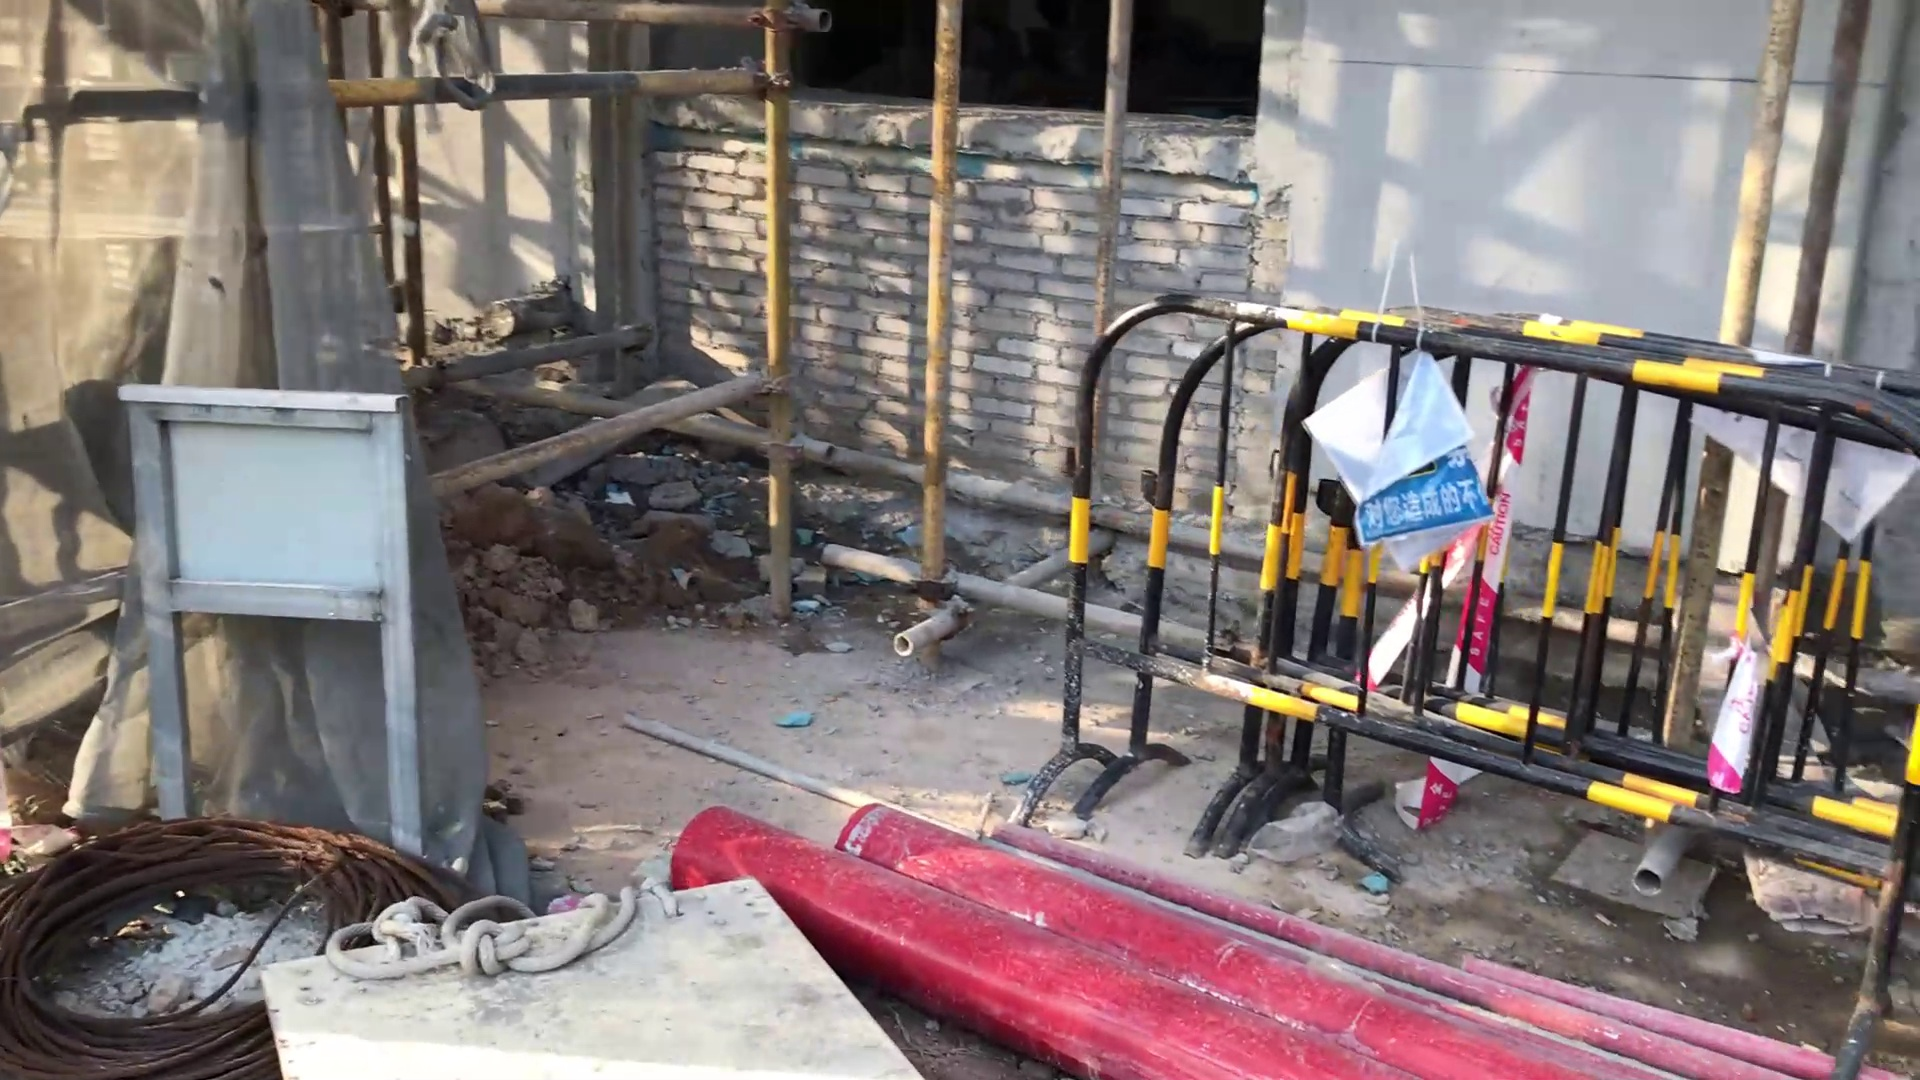fence: (1005, 286, 1920, 899)
